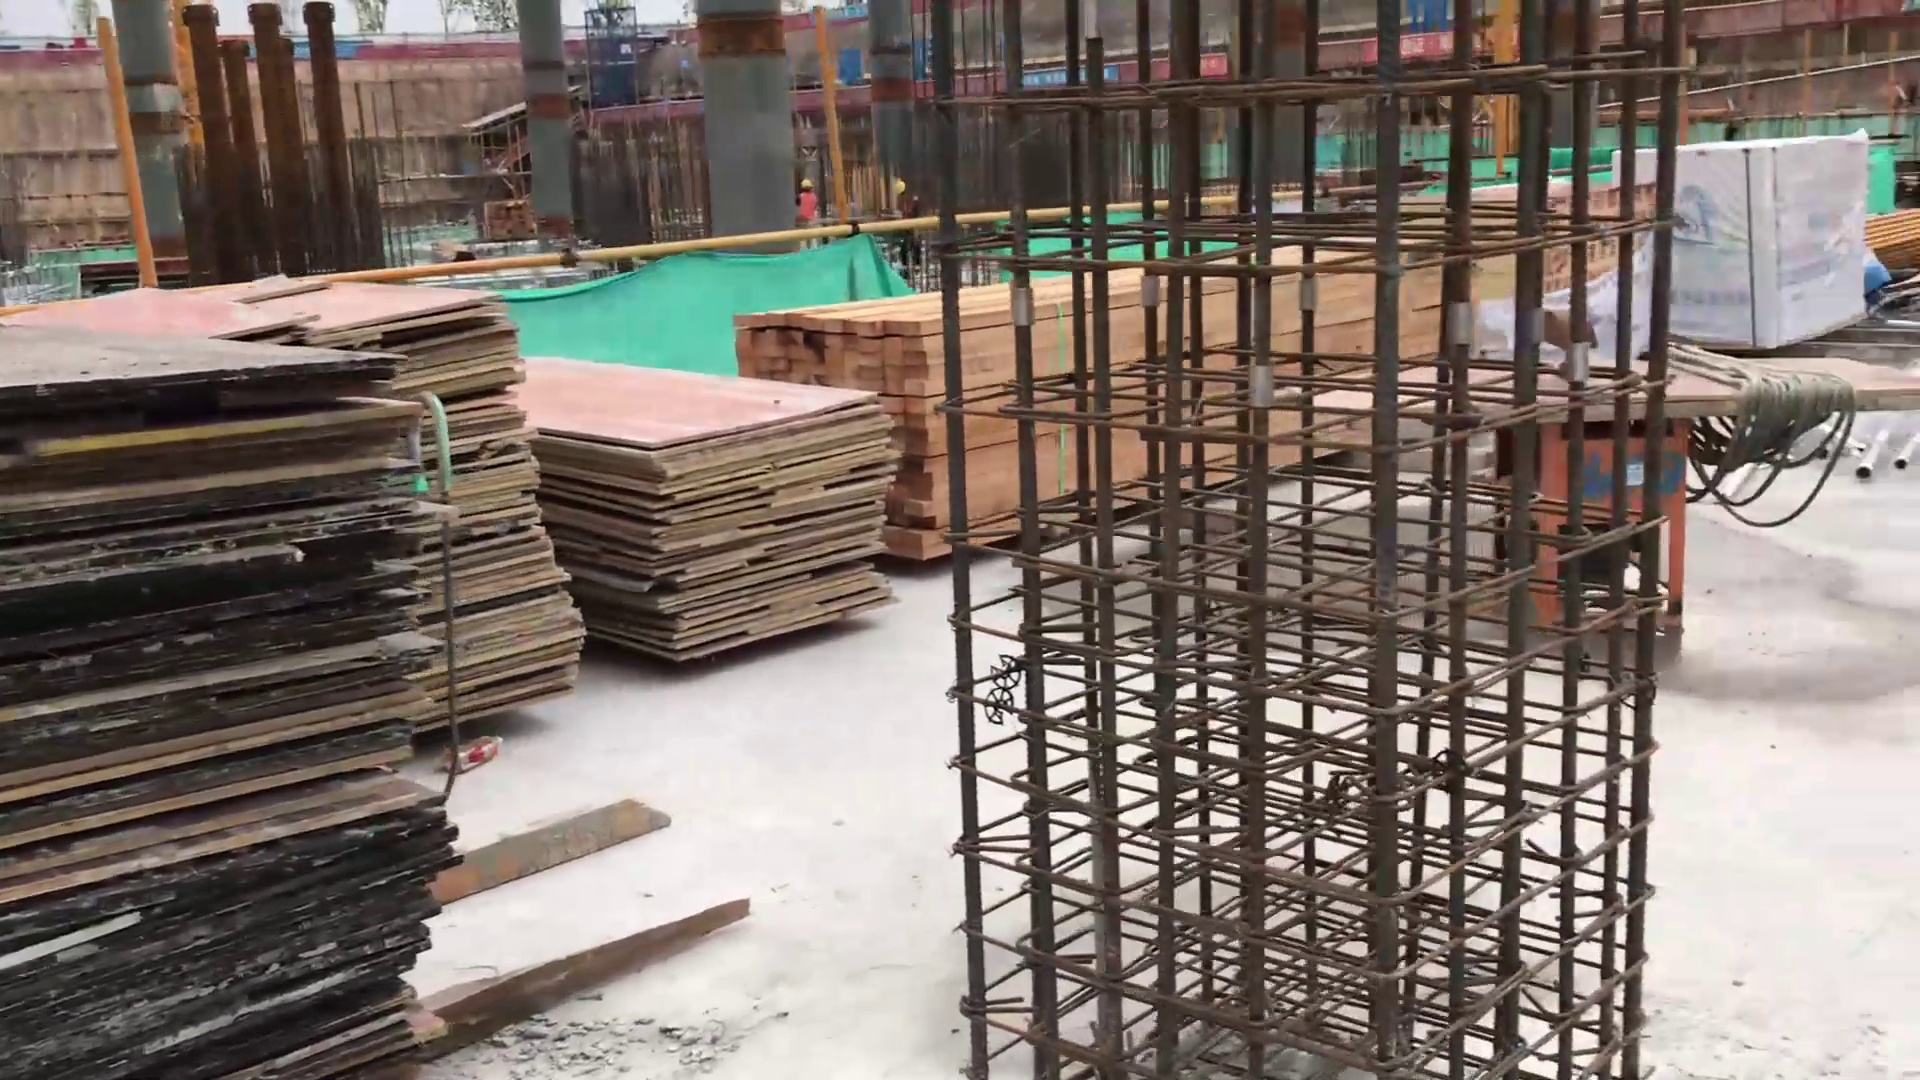board: (1, 326, 438, 1064), (329, 286, 596, 709), (508, 384, 904, 626)
cutter: (1274, 321, 1920, 623)
helmet: (896, 180, 909, 195), (801, 178, 811, 190)
person: (891, 176, 926, 273), (797, 180, 824, 228)
vest: (903, 199, 920, 235), (802, 192, 819, 222)
wood: (796, 241, 1444, 566)
